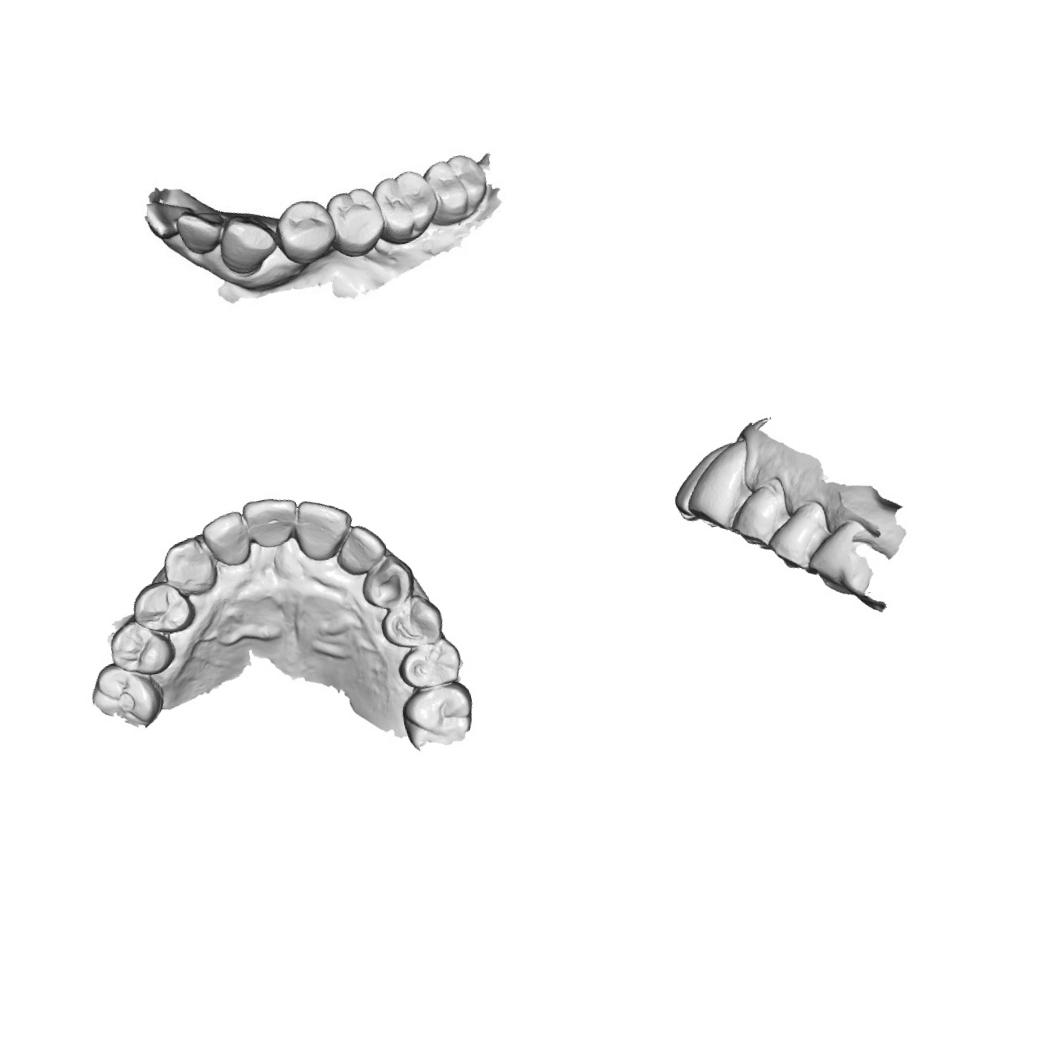canine: (211, 206, 284, 282), (352, 551, 425, 617), (156, 530, 220, 604)
incisor: (288, 489, 362, 566), (239, 490, 305, 556), (327, 518, 392, 581), (171, 200, 235, 262), (196, 508, 256, 574), (136, 190, 195, 244)
molar: (83, 653, 170, 736), (369, 164, 444, 249), (422, 147, 496, 229), (394, 679, 476, 750)
premolar: (102, 608, 181, 686), (270, 192, 340, 270), (322, 183, 390, 263), (375, 590, 450, 655), (126, 575, 198, 642), (393, 636, 467, 694)
